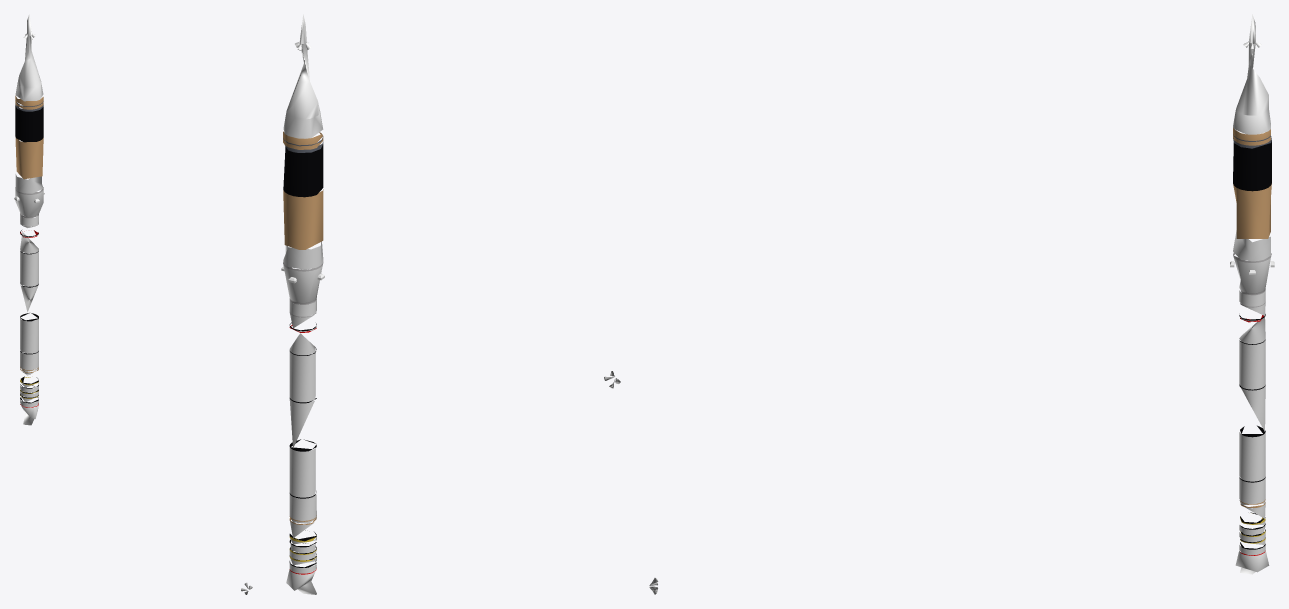
The model's file is ares-1-b.glb.
3 renders of one model, left to right at view 1: azimuth 30°, elevation 25°; view 2: azimuth 150°, elevation 25°; view 3: azimuth 270°, elevation 25°, orthographic. The views are drawn at different scales.
Parts seen in each view (by area): view 1: group2 pCo; view 2: group2 pCo; view 3: group2 pCo.
Part boxes in pixels (left/top/right/bottom): group2 pCo: left=14, top=14, right=252, bottom=594; group2 pCo: left=281, top=14, right=620, bottom=594; group2 pCo: left=649, top=14, right=1274, bottom=594.
Size of the model in its own units: 0.6975 by 10.01 by 9.77.
1 material, 1 textured.
